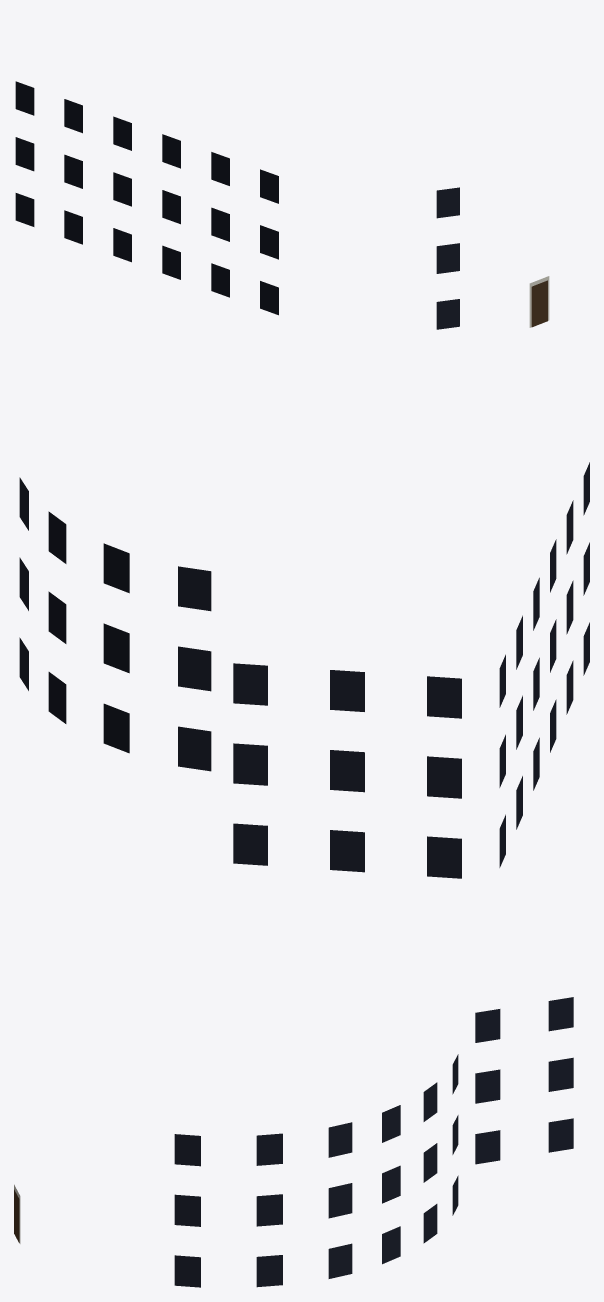
File: facades.glb
3 renders of one model, top to bottom at view 1: azimuth 30°, elevation 25°; view 2: azimuth 150°, elevation 25°; view 3: azimuth 270°, elevation 25°, orthographic. The views are drawn at different scales.
Parts seen in each view (by area): view 1: T_W3_N1_facades; view 2: T_W3_N1_facades; view 3: T_W3_N1_facades.
Boxes of the visible parts, x1,y1,x2,y2 form: T_W3_N1_facades: (15, 81, 549, 329); T_W3_N1_facades: (19, 462, 589, 878); T_W3_N1_facades: (14, 997, 573, 1287).
Size of the model in its own units: 24.24 by 8.4 by 25.81.
